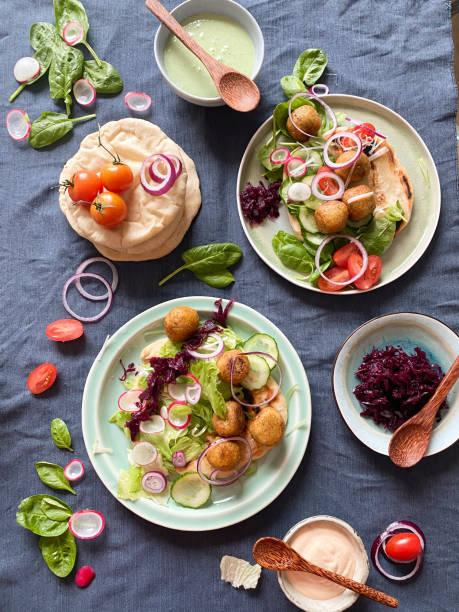Braised Crucian Carp: (80, 299, 309, 528), (234, 95, 437, 292)
